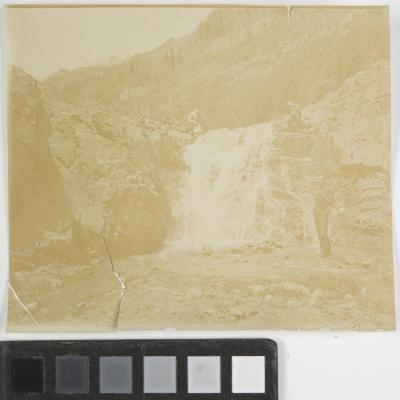photos_negatives: (6, 6, 392, 334)
